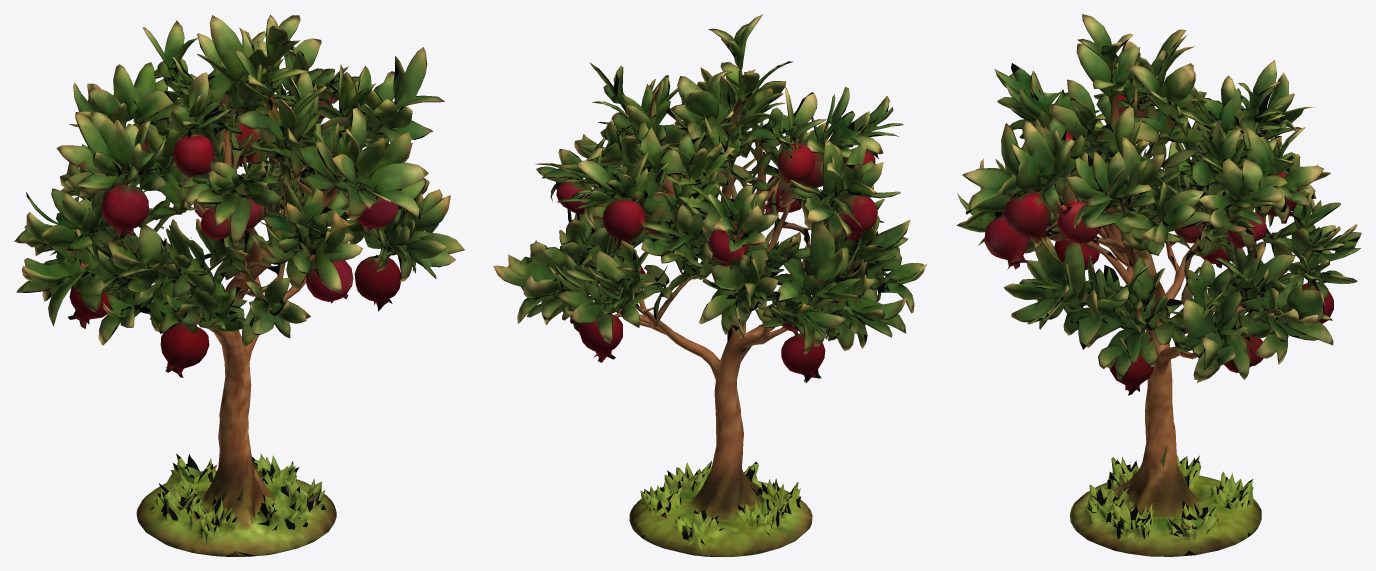
File: Pomegranate_Tree.fbx
3 views of the same model, side by side, from view 1: azimuth 30°, elevation 25°; view 2: azimuth 150°, elevation 25°; view 3: azimuth 270°, elevation 25° (orthographic). The views are drawn at different scales.
Parts seen in each view (by area): view 1: Pomegranate_Tree_LOD0; view 2: Pomegranate_Tree_LOD0; view 3: Pomegranate_Tree_LOD0.
Boxes of the visible parts, bbox=[...] form: Pomegranate_Tree_LOD0: bbox=[14, 15, 464, 556]; Pomegranate_Tree_LOD0: bbox=[493, 14, 927, 556]; Pomegranate_Tree_LOD0: bbox=[956, 14, 1361, 556].
Size of what is drawn, in the model's own units: 1.53 by 1.9 by 1.39.
1 material, 1 textured.
